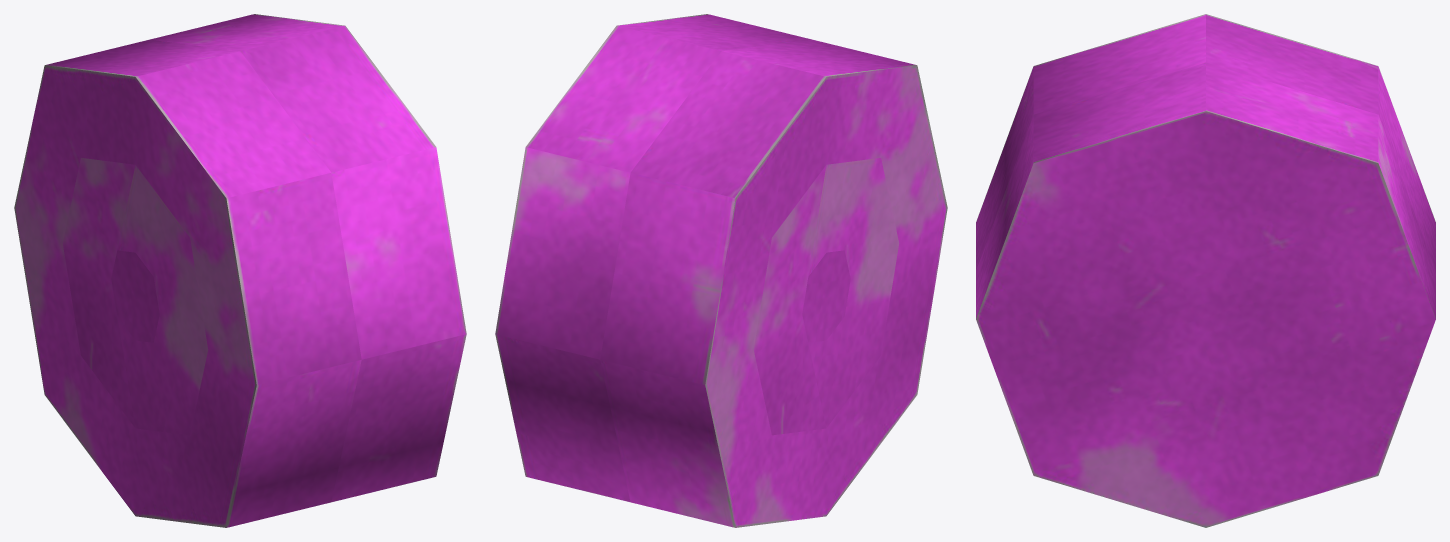
Rendered from target-small.glb.
3 renders of one model, left to right at view 1: azimuth 30°, elevation 25°; view 2: azimuth 150°, elevation 25°; view 3: azimuth 270°, elevation 25°, orthographic. The views are drawn at different scales.
Parts seen in each view (by area): view 1: target-small; view 2: target-small; view 3: target-small.
Part boxes in pixels (x1,y1,x2,y2): target-small: (14, 14, 466, 527); target-small: (495, 14, 947, 527); target-small: (976, 14, 1435, 527).
Size of the model in its own units: 0.1 by 0.2 by 0.2.
Materials: 1 (1 with a texture image).
